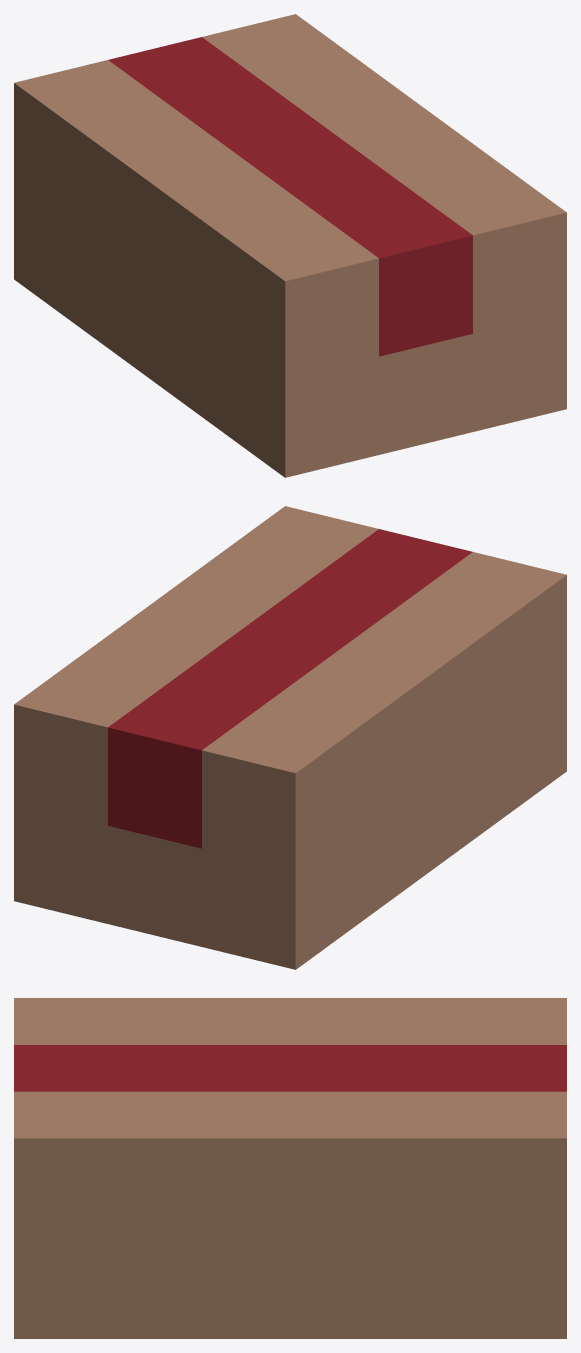
File: Picnic_Set-6.obj
3 views of the same model, one above another, from view 1: azimuth 30°, elevation 25°; view 2: azimuth 150°, elevation 25°; view 3: azimuth 270°, elevation 25° (orthographic).
Size of the model in its own units: 0.3 by 0.2 by 0.5.
Materials: 1 (1 with a texture image).
